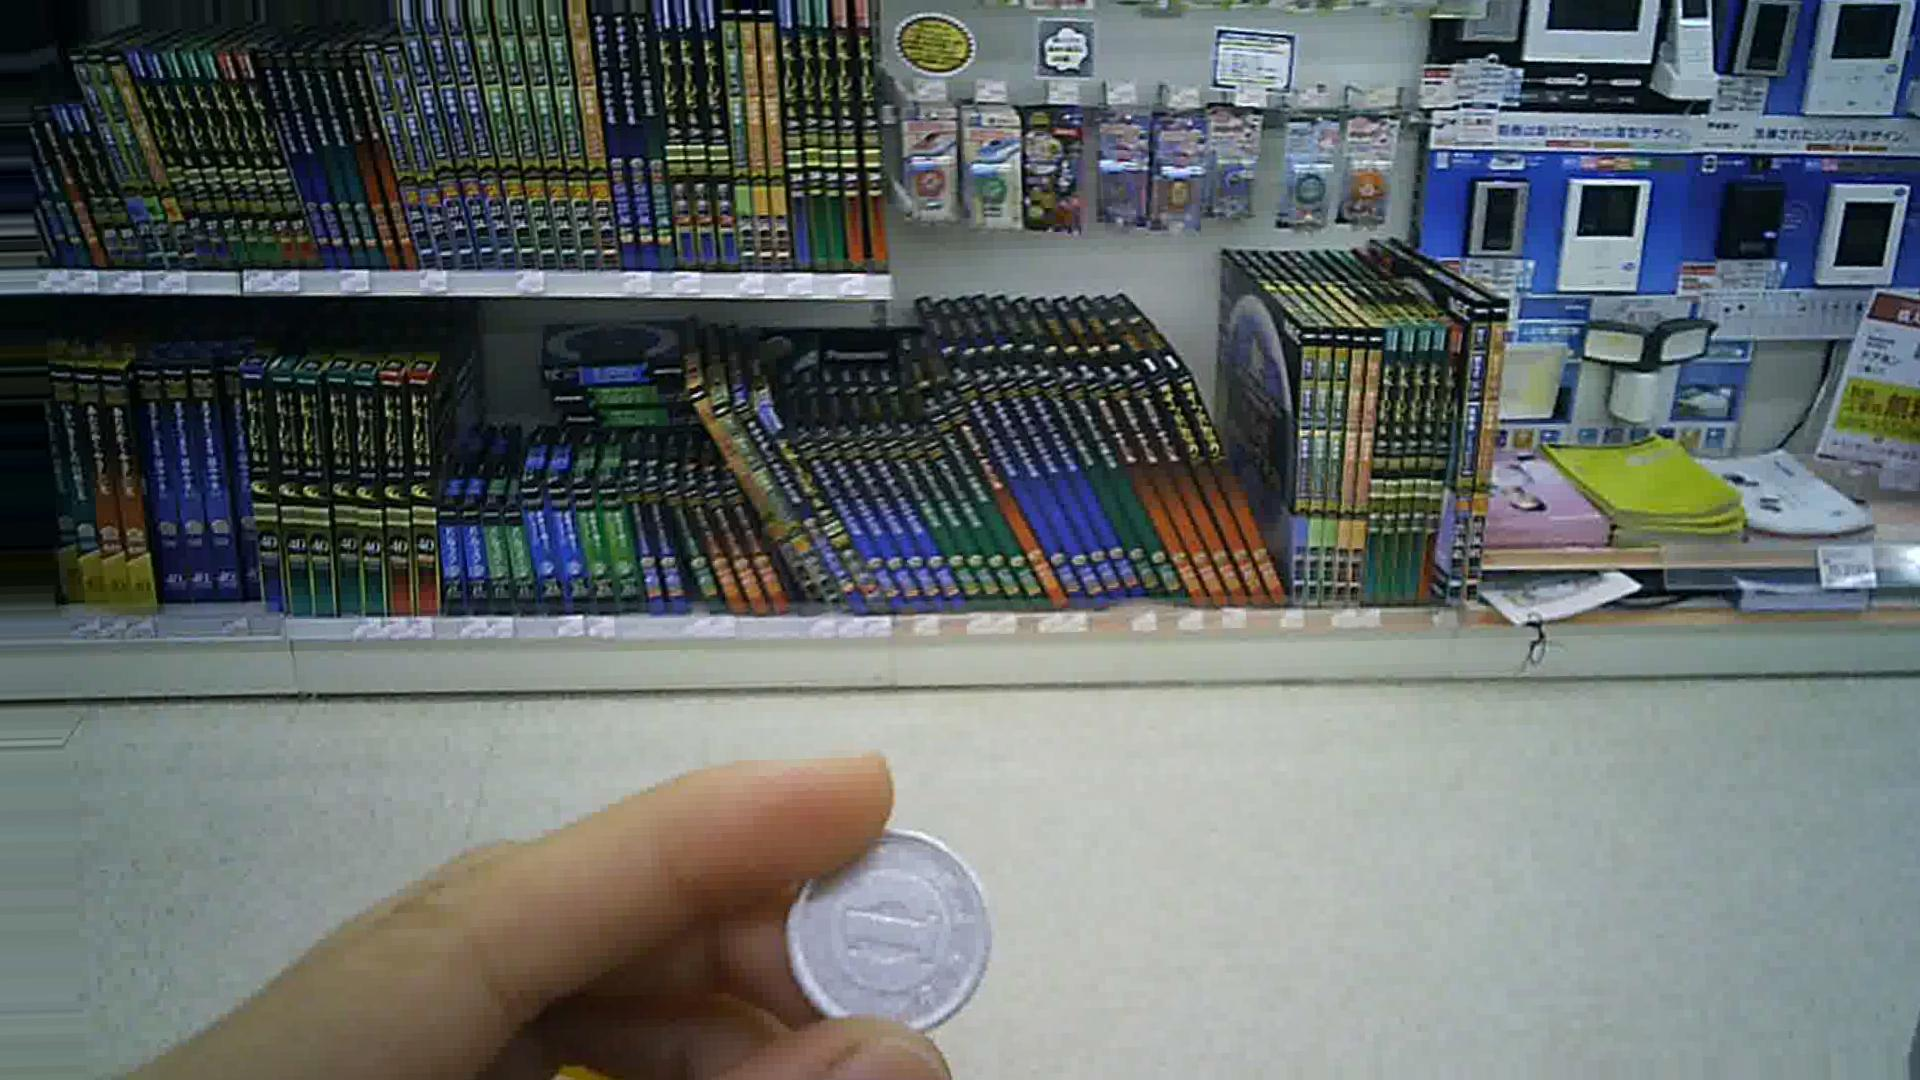1 Yen: (771, 816, 1021, 1054)
